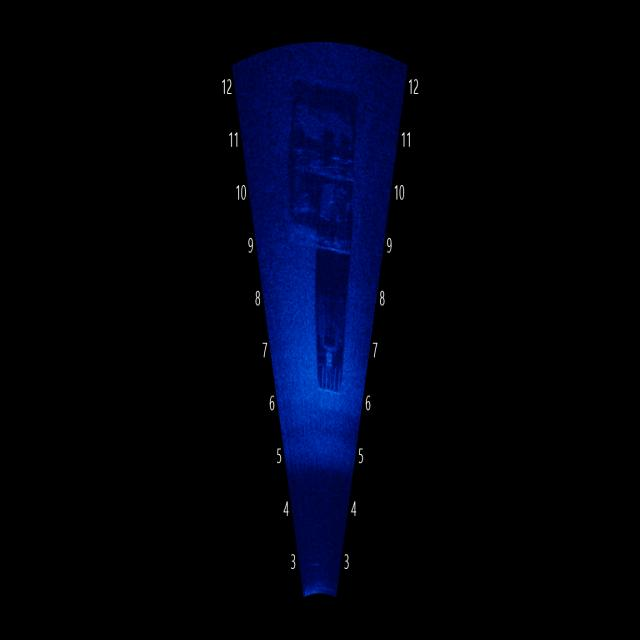square: (278, 88, 368, 251), (308, 254, 351, 424)
